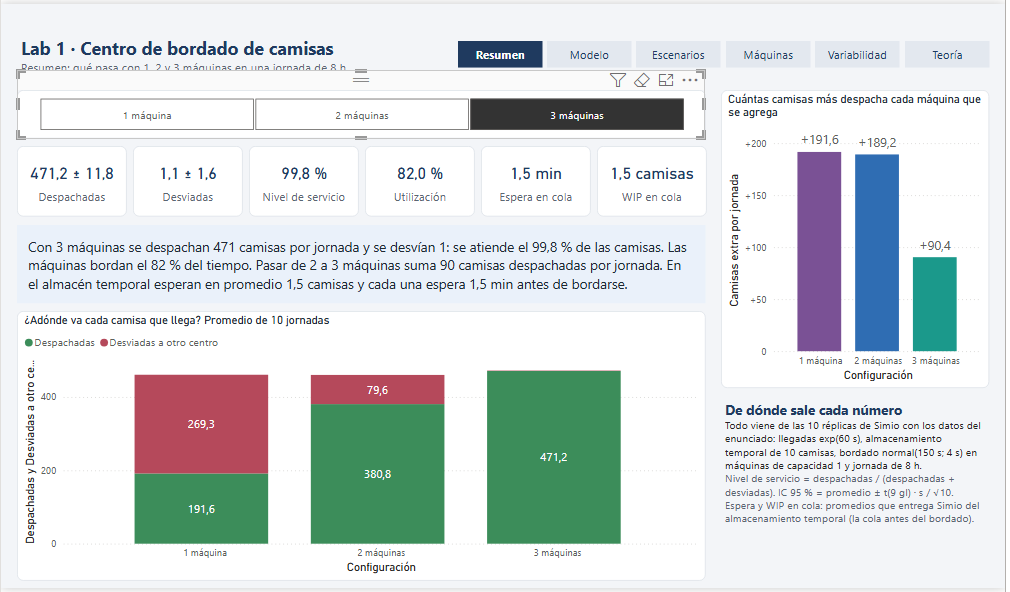

The page's visual inventory and layout, read from the dashboard file:
{"tool":"powerbi","page":{"name":"Resumen","canvas":[1280,720],"ordinal":0},"visuals":[{"type":"textbox","box":[20,10,520,62],"z":1000},{"type":"actionButton","box":[582,22,108,34],"z":2000},{"type":"actionButton","box":[696,22,108,34],"z":3000},{"type":"actionButton","box":[810,22,108,34],"z":4000},{"type":"actionButton","box":[924,22,108,34],"z":5000},{"type":"actionButton","box":[1038,22,108,34],"z":6000},{"type":"actionButton","box":[1152,22,108,34],"z":7000},{"type":"slicer","fields":{"Values":["Resultados.Configuracion"]},"box":[20,84,878,62],"z":8000},{"type":"card","fields":{"Values":["Resultados.Res despachadas"]},"box":[20,156,140,90],"z":9000},{"type":"card","fields":{"Values":["Resultados.Res desviadas"]},"box":[168,156,140,90],"z":10000},{"type":"card","fields":{"Values":["Resultados.Res servicio"]},"box":[316,156,140,90],"z":11000},{"type":"card","fields":{"Values":["Resultados.Res utilizacion"]},"box":[464,156,140,90],"z":12000},{"type":"card","fields":{"Values":["Resultados.Res espera"]},"box":[612,156,140,90],"z":13000},{"type":"card","fields":{"Values":["Resultados.Res wip"]},"box":[760,156,140,90],"z":14000},{"type":"actionButton","box":[20,256,878,100],"z":15000},{"type":"columnChart","title":"¿Adónde va cada camisa que llega? Promedio de 10 jornadas","fields":{"Category":["Resultados.Configuracion"],"Y":["Resultados.Prom Despachadas","Resultados.Prom Desviadas"]},"box":[20,366,878,344],"z":16000},{"type":"clusteredColumnChart","title":"Cuántas camisas más despacha cada máquina que se agrega","fields":{"Category":["Resultados.Configuracion"],"Y":["Resultados.Aporte marginal"]},"box":[918,84,342,380],"z":17000},{"type":"textbox","box":[918,474,342,236],"z":18000}]}

Visuals, with their boxes on the page's 1280x720 design canvas (x1, y1, x2, y2). These are canvas units, not pixel positions in the 1010x592 screenshot, which may show the page scaled, cropped or inside an application window:
textbox: bbox=(20, 10, 540, 72)
actionButton: bbox=(582, 22, 690, 56)
actionButton: bbox=(696, 22, 804, 56)
actionButton: bbox=(810, 22, 918, 56)
actionButton: bbox=(924, 22, 1032, 56)
actionButton: bbox=(1038, 22, 1146, 56)
actionButton: bbox=(1152, 22, 1260, 56)
slicer - Resultados.Configuracion: bbox=(20, 84, 898, 146)
card - Resultados.Res despachadas: bbox=(20, 156, 160, 246)
card - Resultados.Res desviadas: bbox=(168, 156, 308, 246)
card - Resultados.Res servicio: bbox=(316, 156, 456, 246)
card - Resultados.Res utilizacion: bbox=(464, 156, 604, 246)
card - Resultados.Res espera: bbox=(612, 156, 752, 246)
card - Resultados.Res wip: bbox=(760, 156, 900, 246)
actionButton: bbox=(20, 256, 898, 356)
"¿Adónde va cada camisa que llega? Promedio de 10 jornadas" columnChart: bbox=(20, 366, 898, 710)
"Cuántas camisas más despacha cada máquina que se agrega" clusteredColumnChart: bbox=(918, 84, 1260, 464)
textbox: bbox=(918, 474, 1260, 710)
